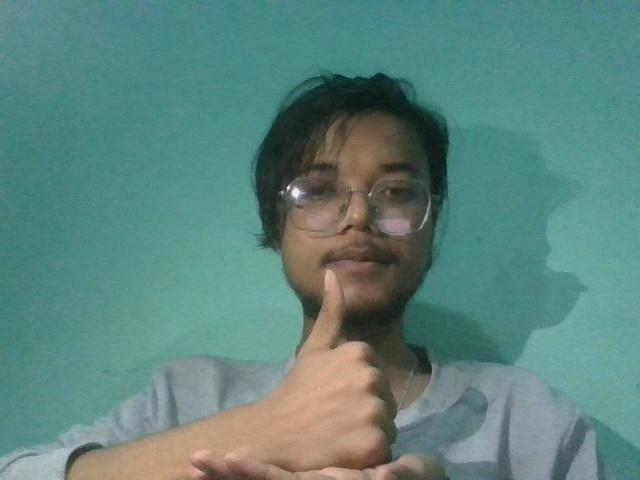help: (157, 261, 484, 479)
